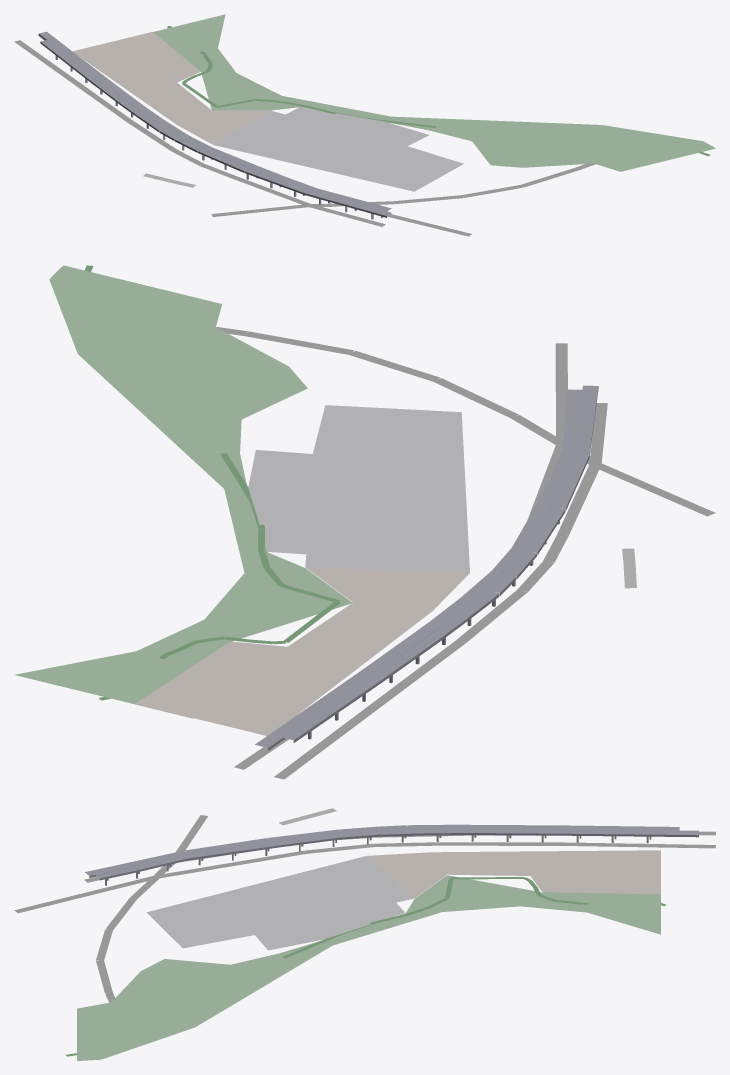
3 renders of one model, top to bottom at view 1: azimuth 30°, elevation 25°; view 2: azimuth 150°, elevation 25°; view 3: azimuth 270°, elevation 25°, orthographic. The views are drawn at different scales.
Bounding box in the file's own units: 509 × 11.71 × 601.
